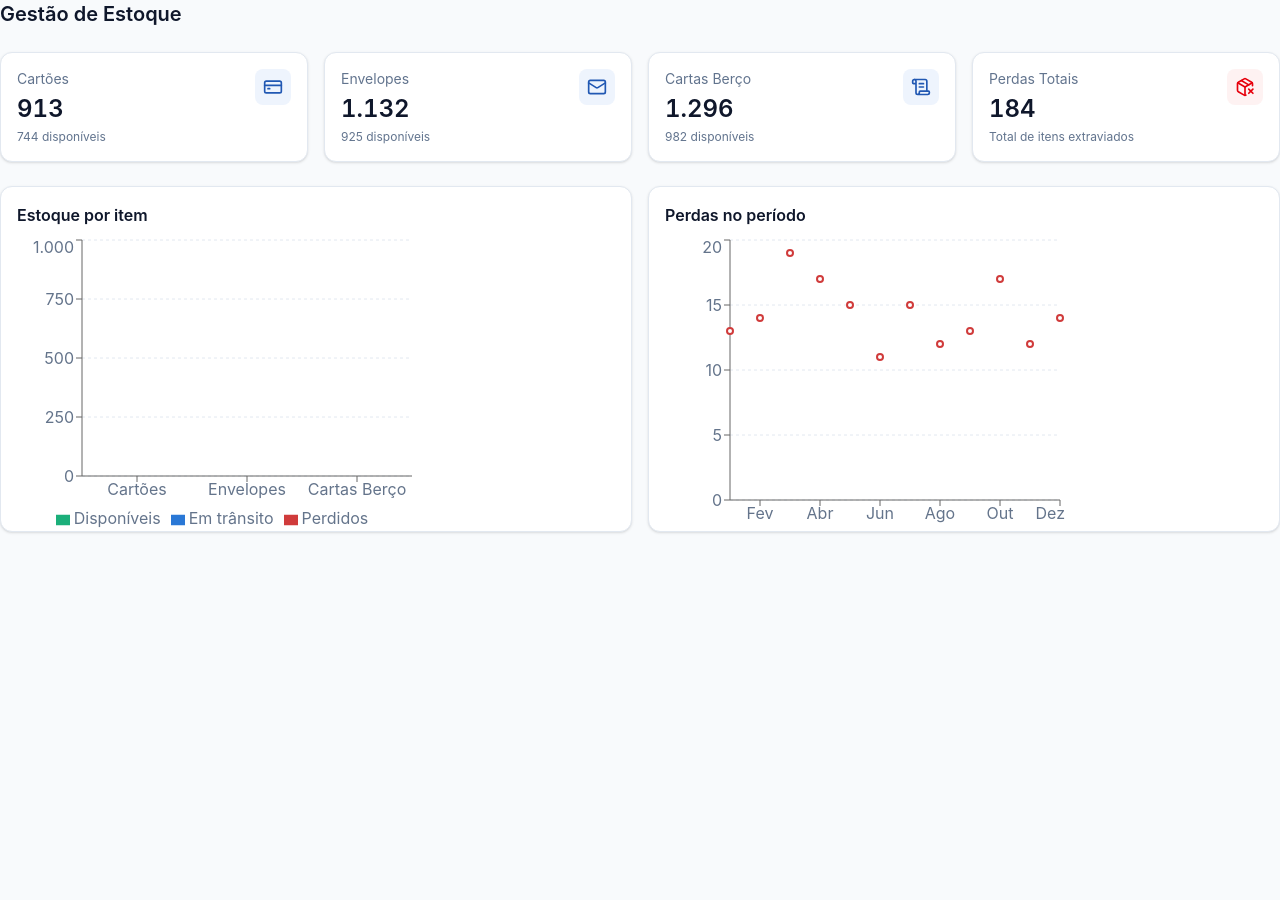
Test case: InventoryPage › opens the details of an item in a dialog and closes it with Escape
The image size is (1280, 900).
Click the button "Cartões 913 744 disponíveis": (43, 78) [17, 69, 291, 145]
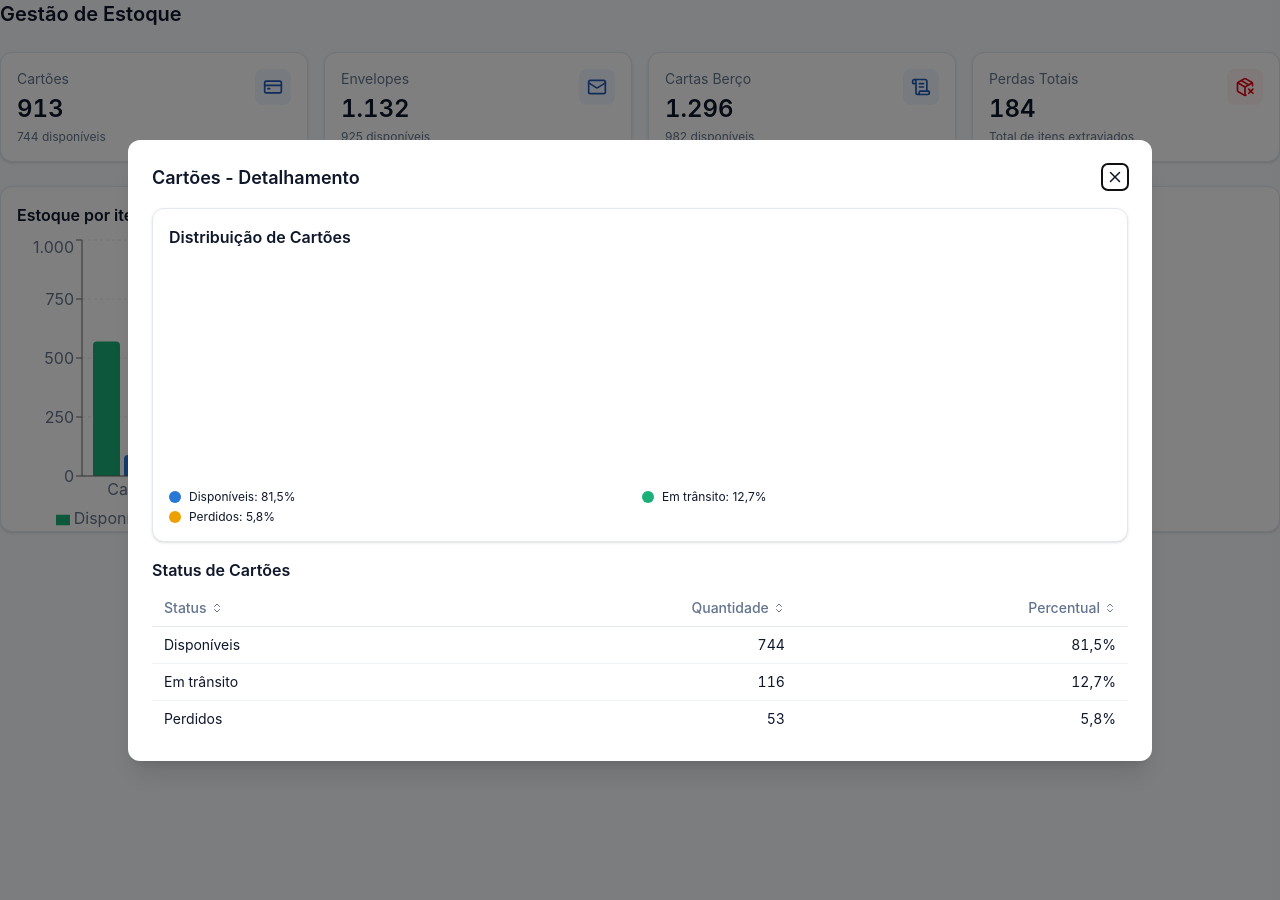
Expected: the table "Status de Cartões" is shown, [152, 558, 1128, 736]
Press Escape
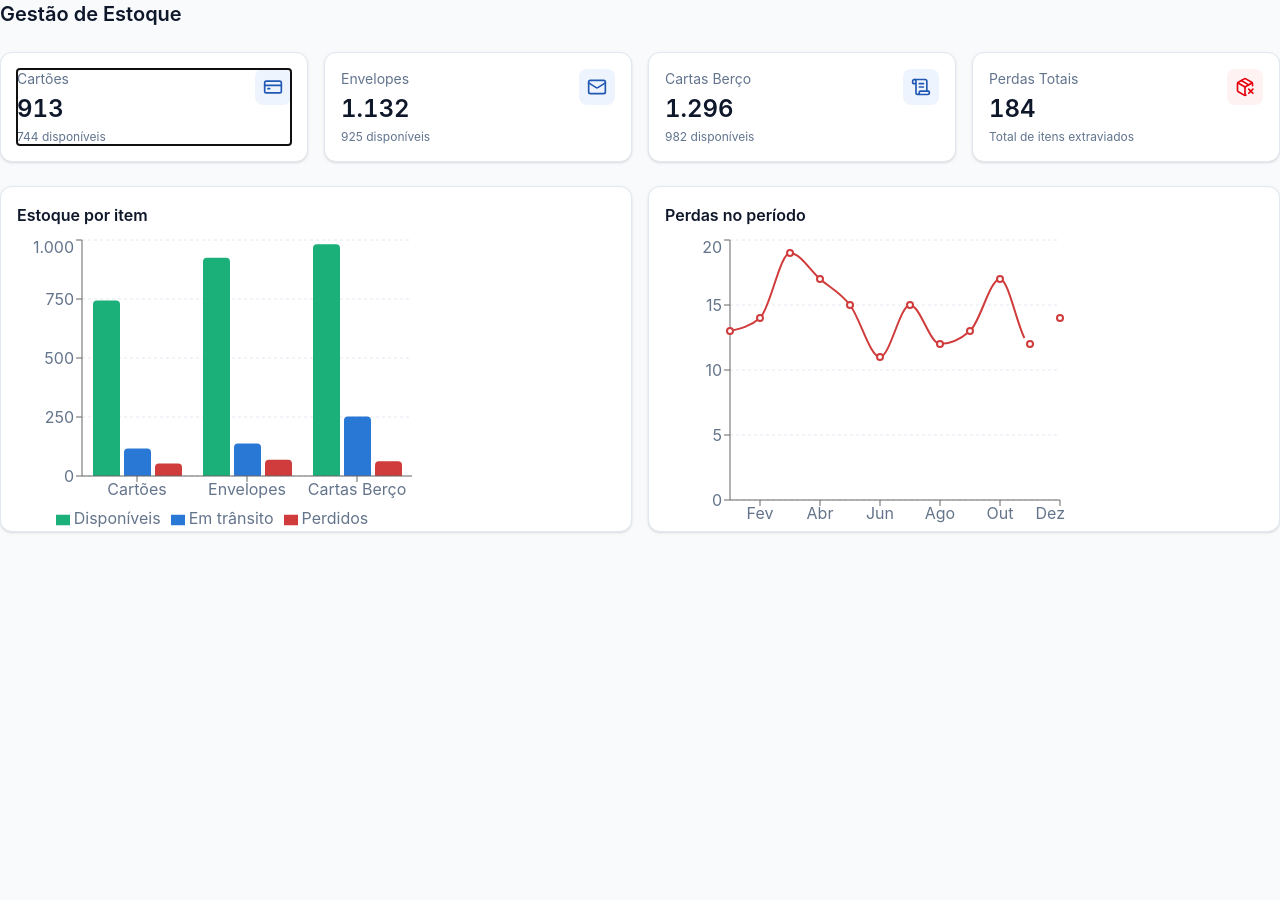
Expected: the dialog is gone
